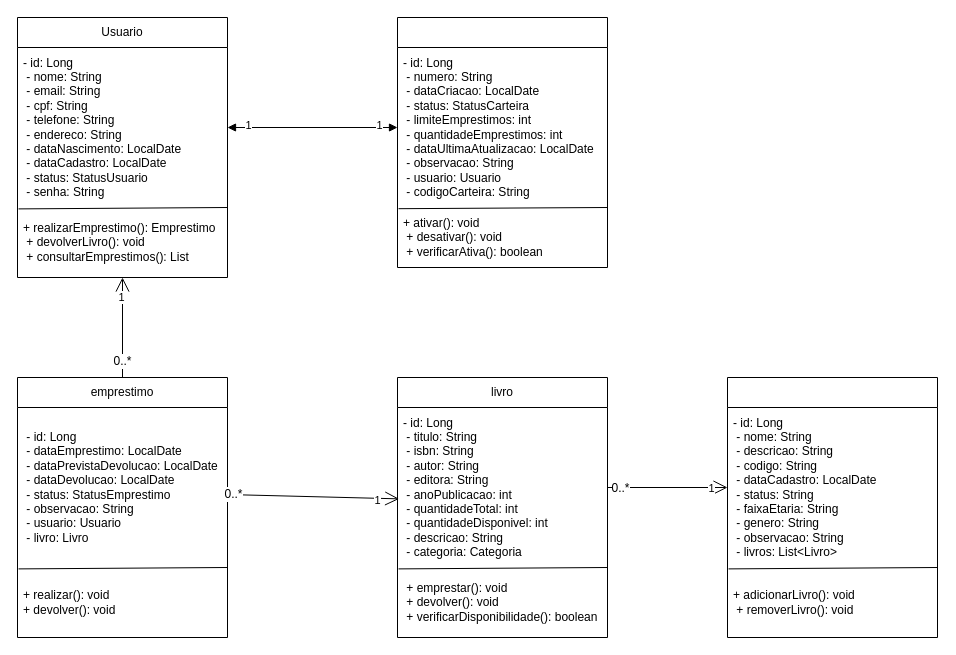
Image size: 956x655. Some labels were removed from this diagram. The box of each missing label's shape, as (x1, y1, x2, y2) in pixels:
CarteiraBiblioteca: (396, 16, 608, 268)
categoria: (726, 376, 938, 638)
